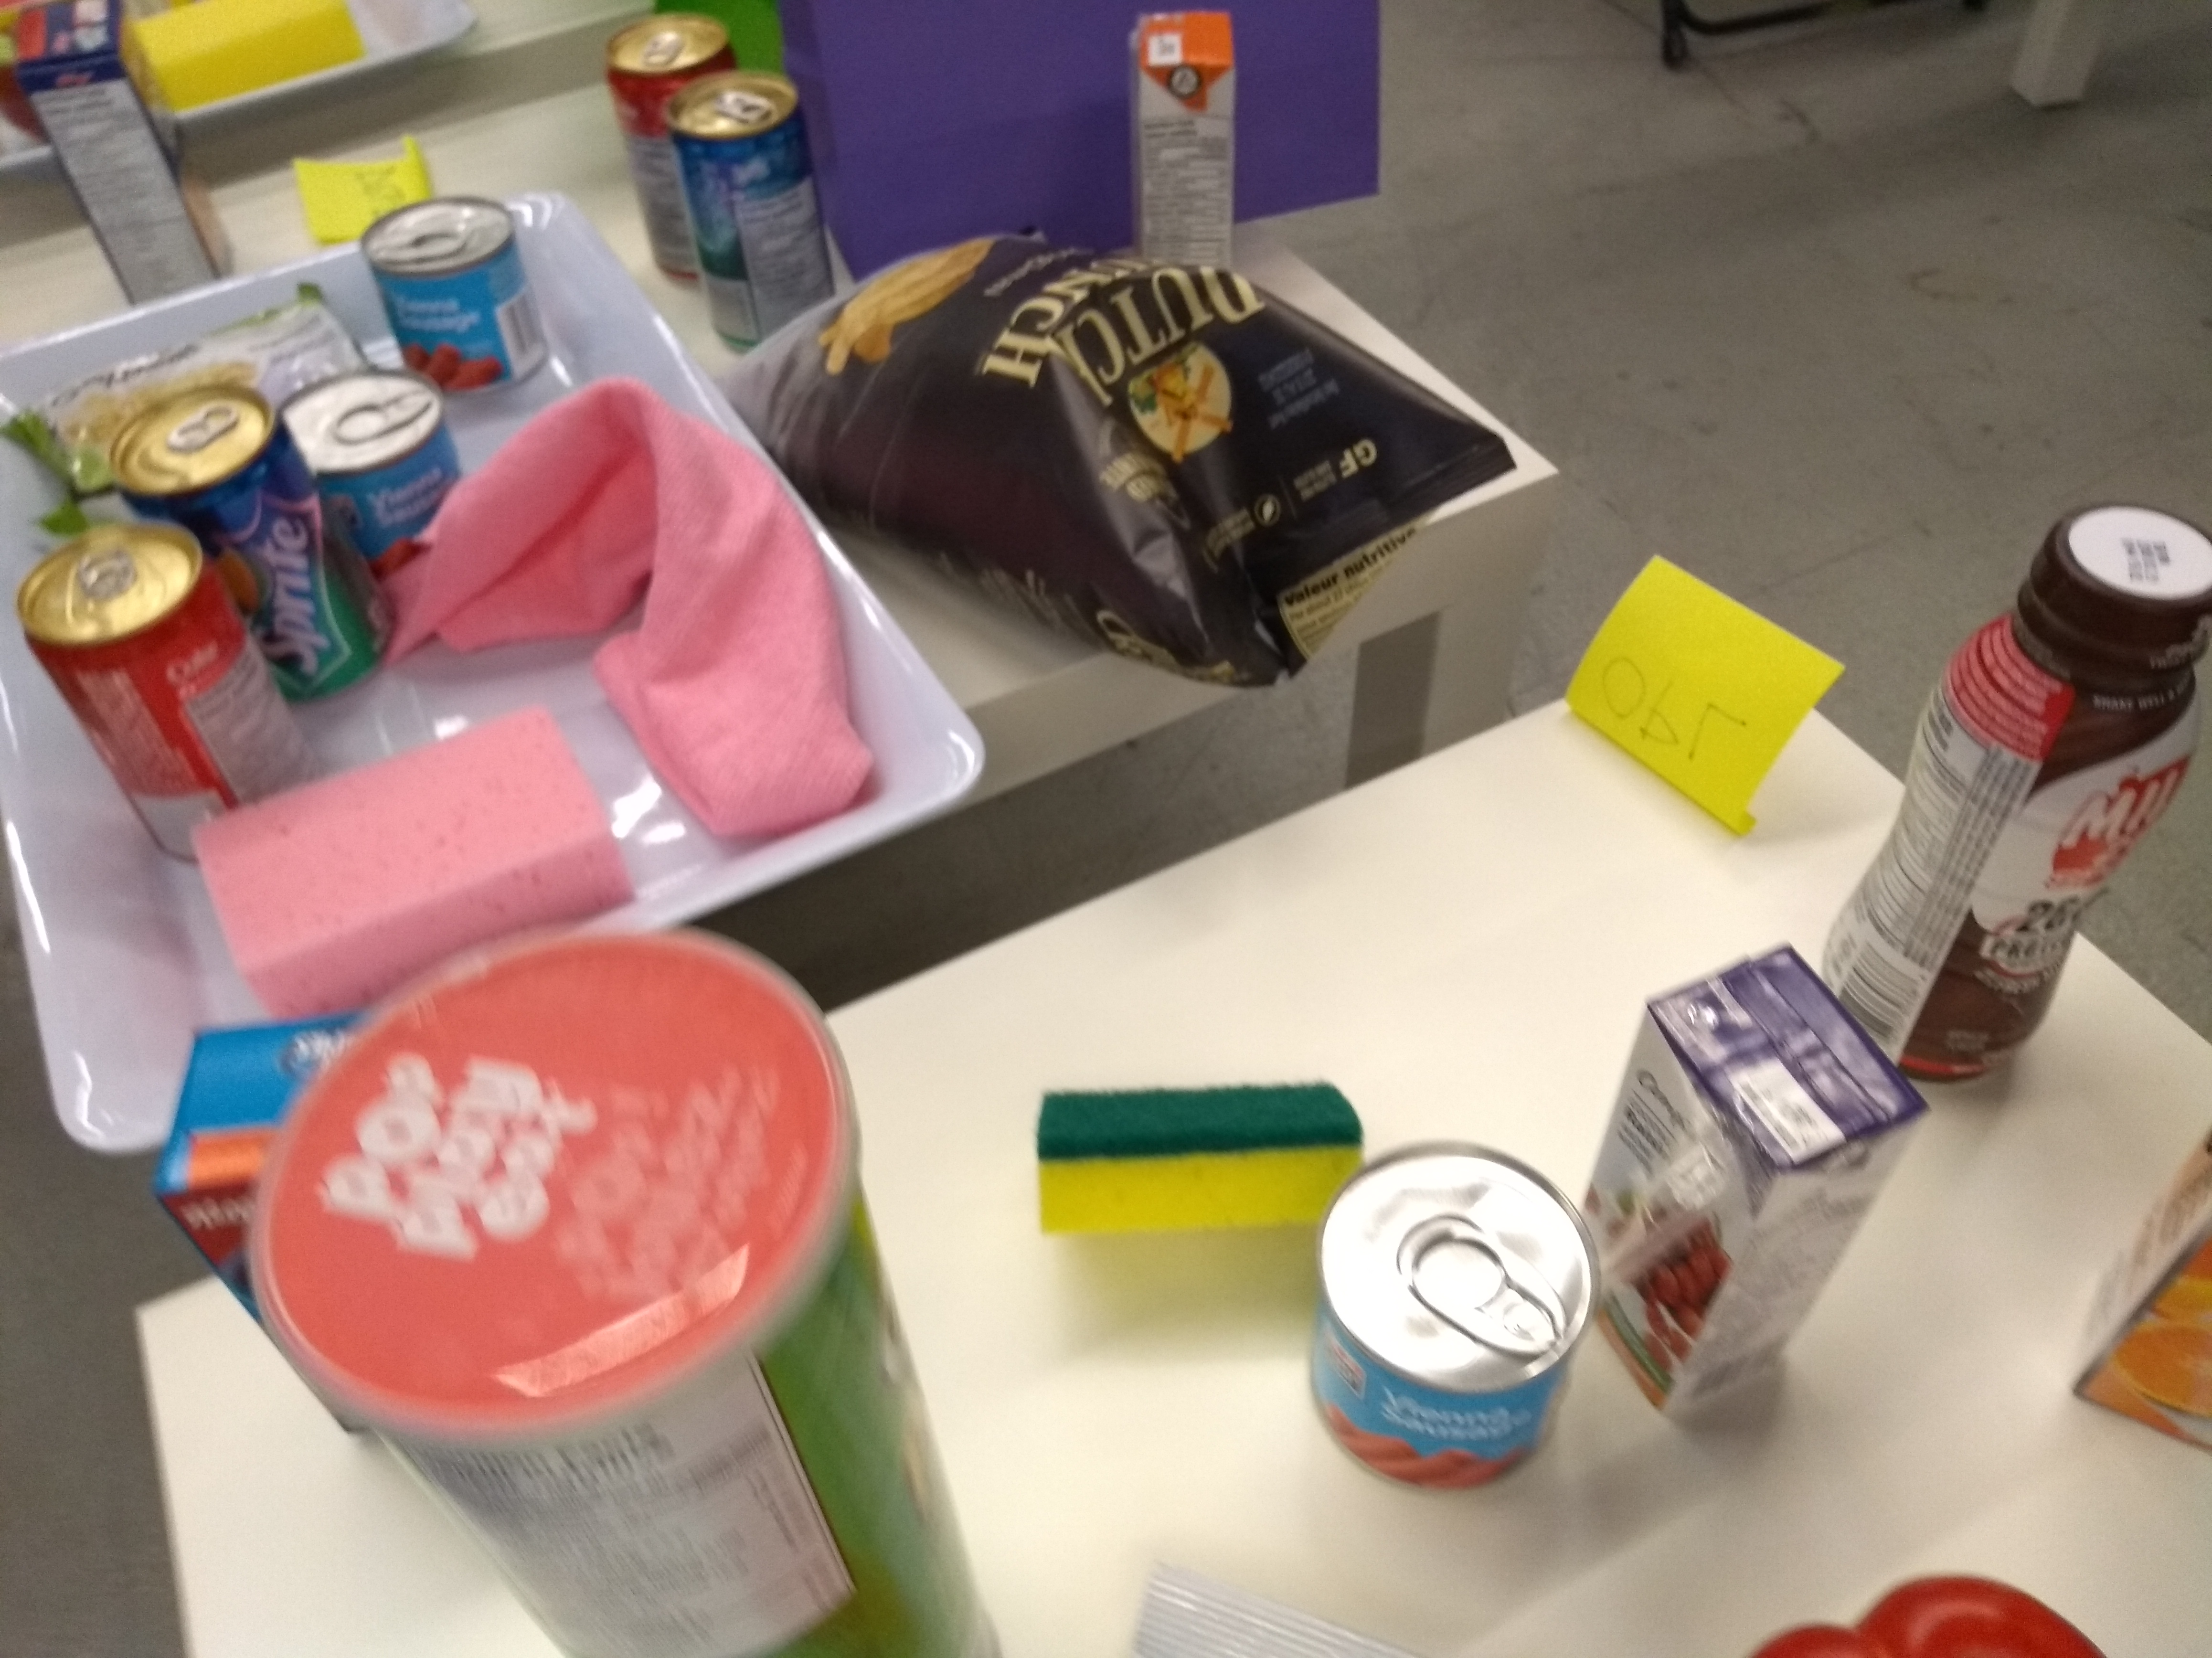chocolate_drink: (1827, 489, 2212, 1092)
coke: (14, 507, 319, 855), (594, 5, 737, 293)
grape_juice: (1575, 937, 1939, 1440)
orange_juice: (1113, 12, 1254, 282)
potato_chips: (726, 223, 1521, 695)
pringles: (246, 927, 1005, 1658)
sausages: (1301, 1137, 1602, 1501), (270, 371, 482, 580), (352, 192, 563, 399)
scrubby: (1024, 1078, 1378, 1235)
sprite: (108, 387, 390, 709), (664, 68, 843, 350)
